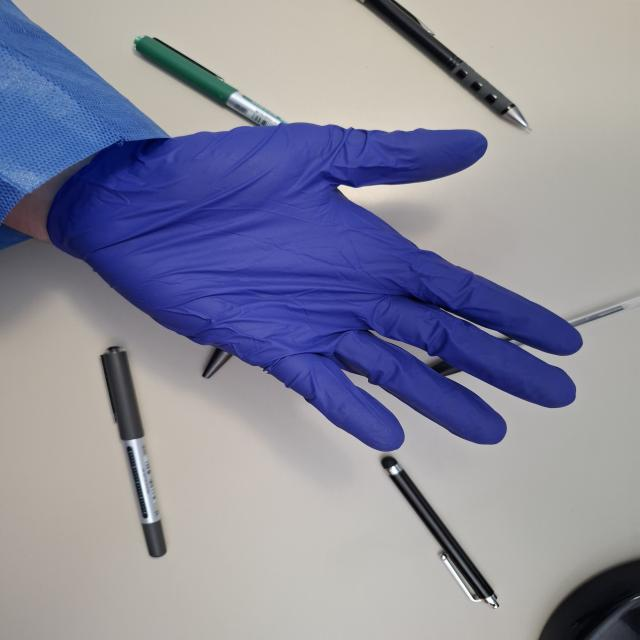glove_on: (50, 115, 588, 455)
